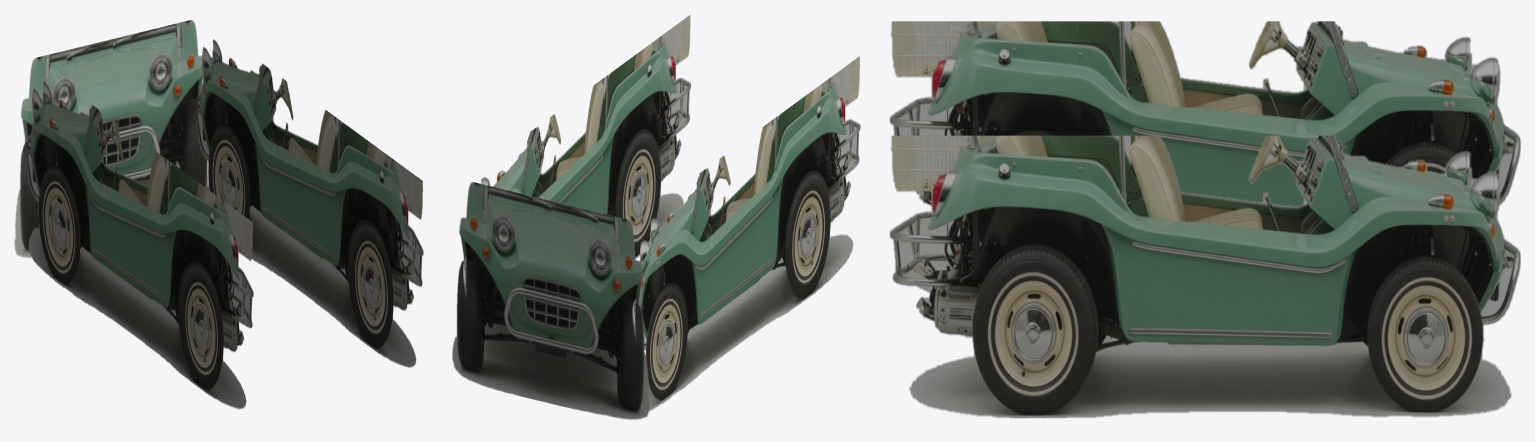
Rendered from golf_cart.glb.
3 views of the same model, side by side, from view 1: azimuth 30°, elevation 25°; view 2: azimuth 150°, elevation 25°; view 3: azimuth 270°, elevation 25° (orthographic). The views are drawn at different scales.
Parts seen in each view (by area): view 1: golf_cart; view 2: golf_cart; view 3: golf_cart.
Part boxes in pixels (x1,y1,x2,y2): golf_cart: (14,20,423,409); golf_cart: (452,15,860,419); golf_cart: (889,21,1520,418).
Bounding box in the file's own units: 1.2 × 1.18 × 2.4.
Materials: 1 (1 with a texture image).
